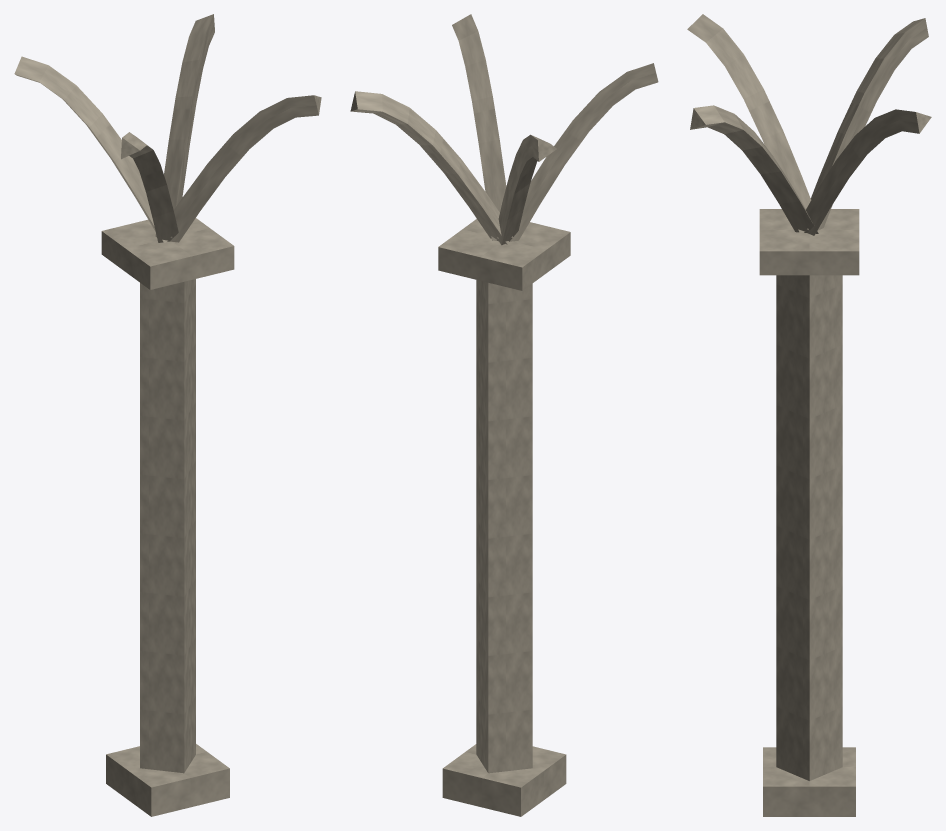
File: Pillar_Gothic_1_LOD2.gltf
3 views of the same model, side by side, from view 1: azimuth 30°, elevation 25°; view 2: azimuth 150°, elevation 25°; view 3: azimuth 270°, elevation 25° (orthographic). The views are drawn at different scales.
Visible parts, largest first — view 1: Pillar_Gothic_1_LOD2; view 2: Pillar_Gothic_1_LOD2; view 3: Pillar_Gothic_1_LOD2.
Boxes of the visible parts, <box> form: Pillar_Gothic_1_LOD2: <box>14,14,321,816</box>; Pillar_Gothic_1_LOD2: <box>350,14,658,816</box>; Pillar_Gothic_1_LOD2: <box>687,14,931,816</box>.
Bounding box in the file's own units: 3.68 × 12.17 × 3.68.
Materials: 1 (1 with a texture image).
